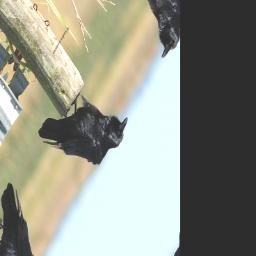Crow: (35, 54, 132, 204)
